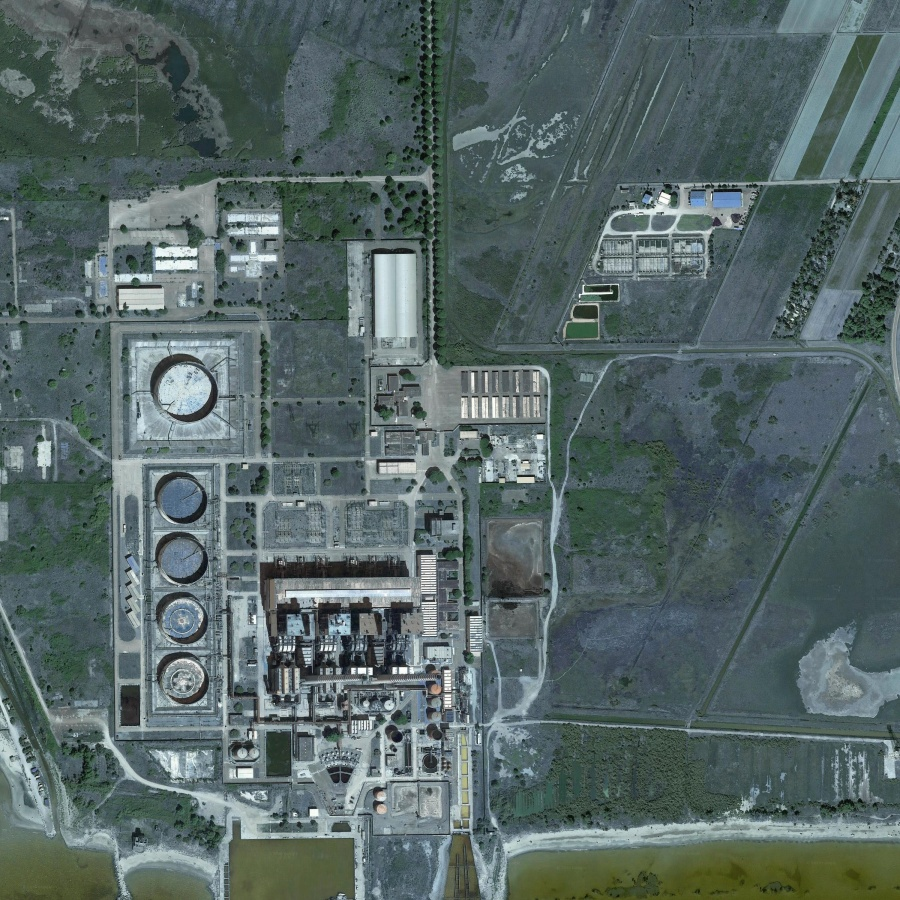PowerPlant: (107, 322, 256, 738)
